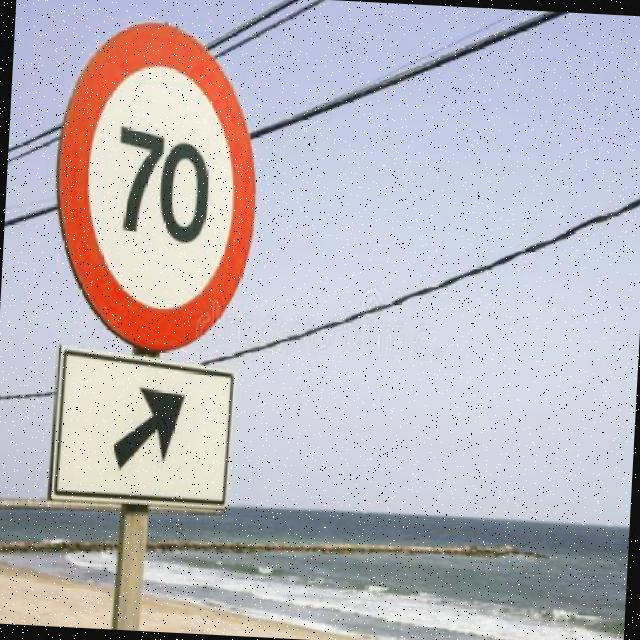Ograniczenie predkosci do 70: (54, 35, 270, 354)
